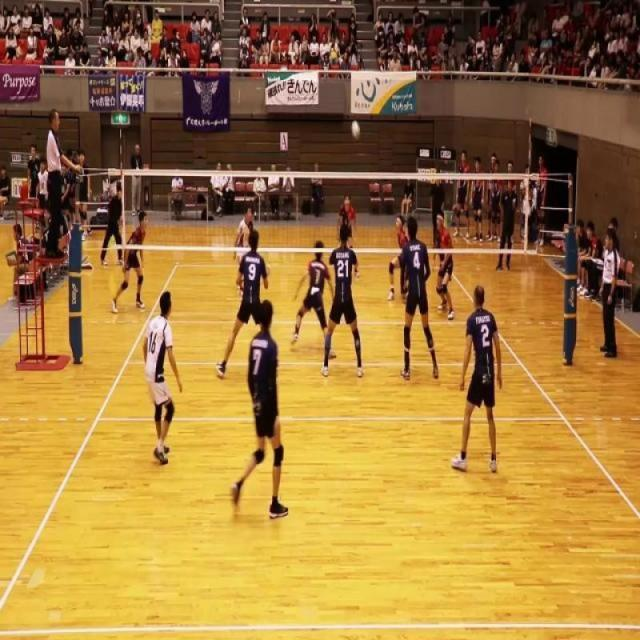volleyball: (351, 118, 360, 142)
